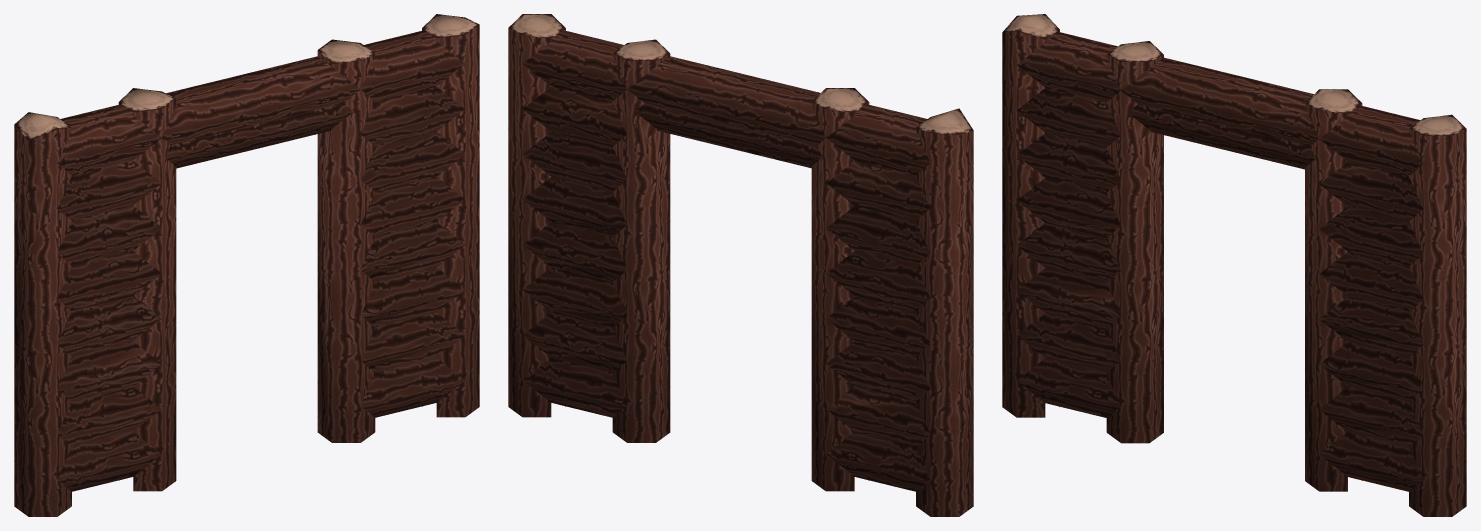
File: wood_door_frame.fbx
3 renders of one model, left to right at view 1: azimuth 30°, elevation 25°; view 2: azimuth 150°, elevation 25°; view 3: azimuth 330°, elevation 25°, orthographic.
Parts seen in each view (by area): view 1: door_frame; view 2: door_frame; view 3: door_frame.
Boxes of the visible parts, x1,y1,x2,y2 form: door_frame: [14, 14, 479, 516]; door_frame: [508, 14, 973, 516]; door_frame: [1002, 14, 1466, 516].
Bounding box in the file's own units: 323 × 267 × 35.68.
